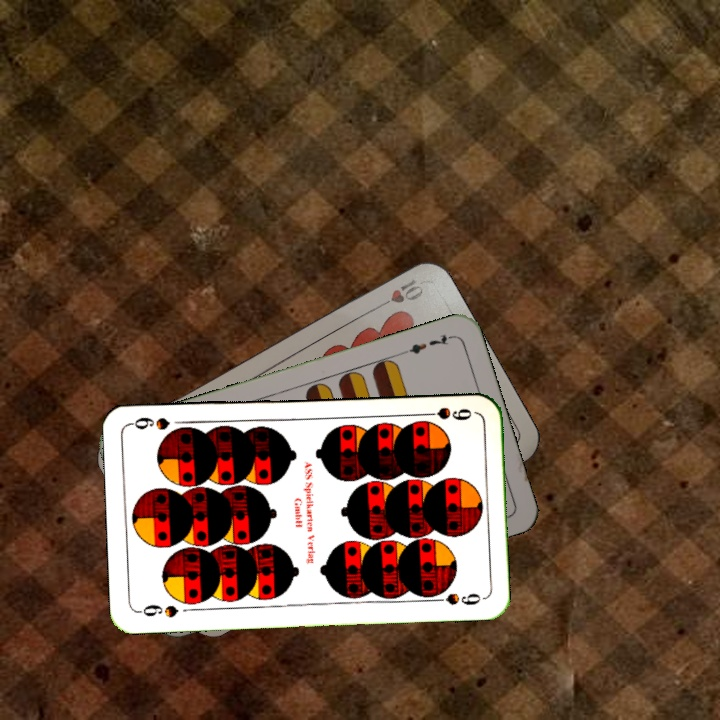E7: (398, 330, 456, 358)
H10: (371, 275, 426, 313)
S9: (417, 403, 474, 423), (135, 600, 181, 621)
